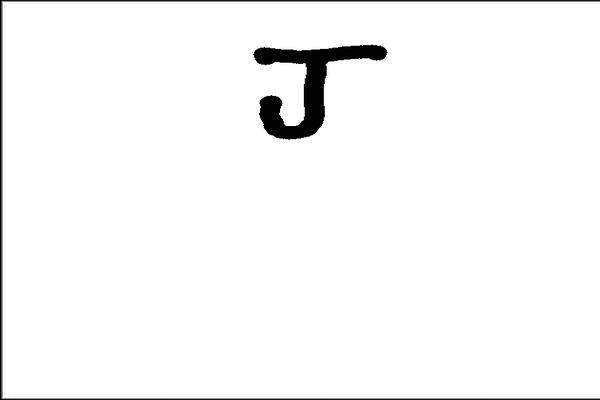J: (247, 36, 392, 141)
